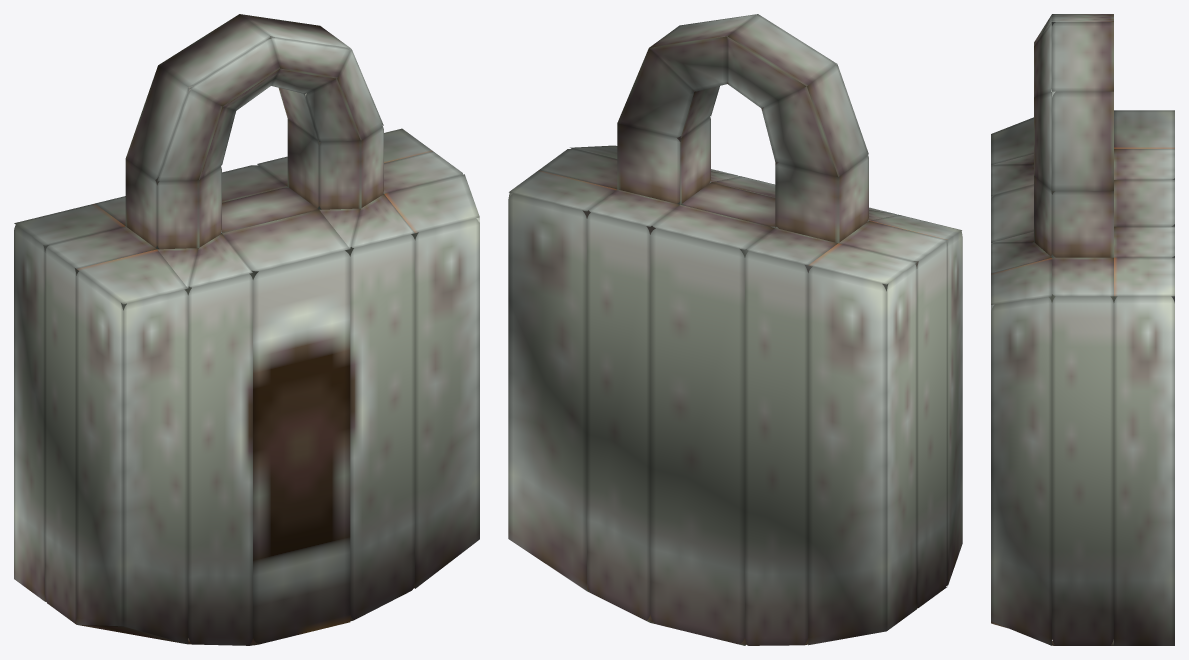
The picture shows the model from 3 angles, left to right: view 1: azimuth 30°, elevation 25°; view 2: azimuth 150°, elevation 25°; view 3: azimuth 270°, elevation 25°; orthographic projection. The views are drawn at different scales.
Parts seen in each view (by area): view 1: T1L5M009_28; view 2: T1L5M009_28; view 3: T1L5M009_28.
Part boxes in pixels (bbox=[...]): T1L5M009_28: bbox=[14, 14, 479, 645]; T1L5M009_28: bbox=[508, 14, 962, 645]; T1L5M009_28: bbox=[991, 14, 1174, 645].
Bounding box in the file's own units: 0.4795 × 0.6973 × 0.2002.
